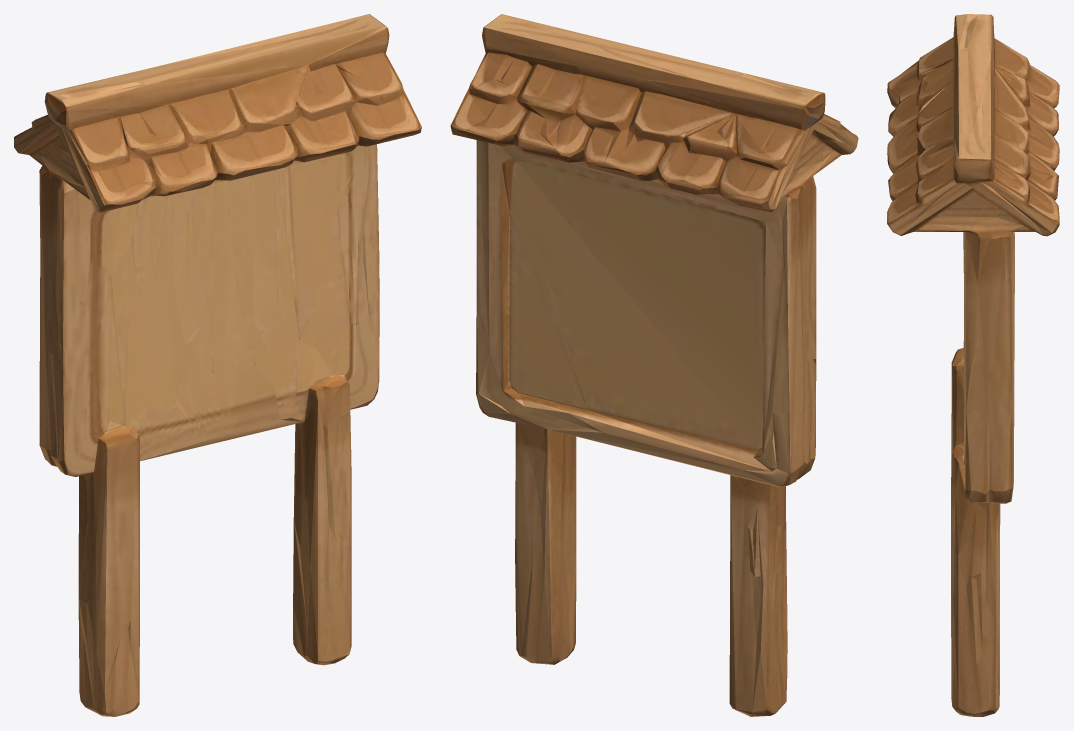
The model's file is noticeboard.glb.
The picture shows the model from 3 angles, left to right: view 1: azimuth 30°, elevation 25°; view 2: azimuth 150°, elevation 25°; view 3: azimuth 270°, elevation 25°; orthographic projection. The views are drawn at different scales.
Size of the model in its own units: 1.04 by 1.9 by 0.5145.
1 material, 1 textured.
